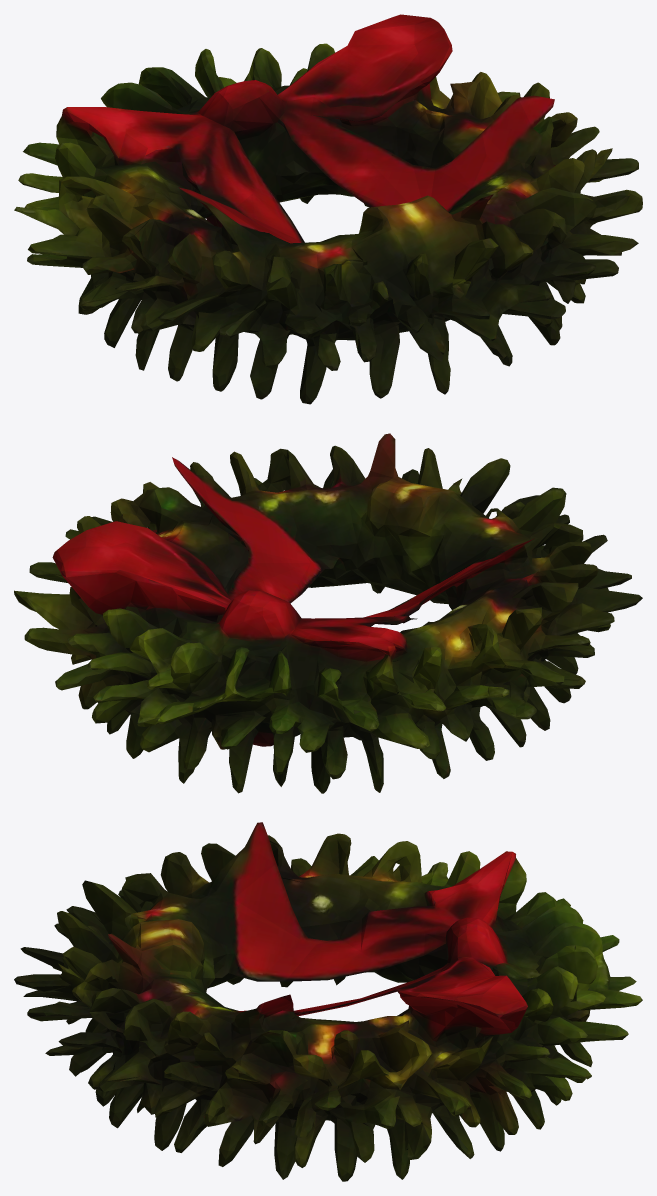
File: wreath_christmas.glb
3 renders of one model, top to bottom at view 1: azimuth 30°, elevation 25°; view 2: azimuth 150°, elevation 25°; view 3: azimuth 270°, elevation 25°, orthographic. The views are drawn at different scales.
Visible parts, largest first — view 1: geometry_0; view 2: geometry_0; view 3: geometry_0.
Part boxes in pixels (left/top/right/bottom): geometry_0: left=14, top=14, right=642, bottom=404; geometry_0: left=14, top=433, right=642, bottom=793; geometry_0: left=14, top=822, right=642, bottom=1181.
Size of the model in its own units: 0.9641 by 0.3243 by 0.9974.
Materials: 1 (1 with a texture image).
